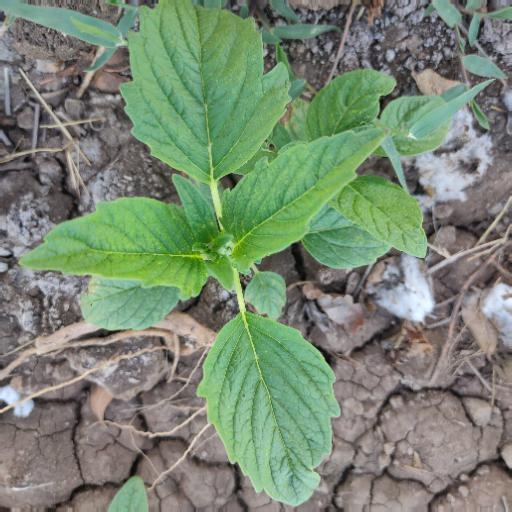crop: (21, 3, 385, 512)
